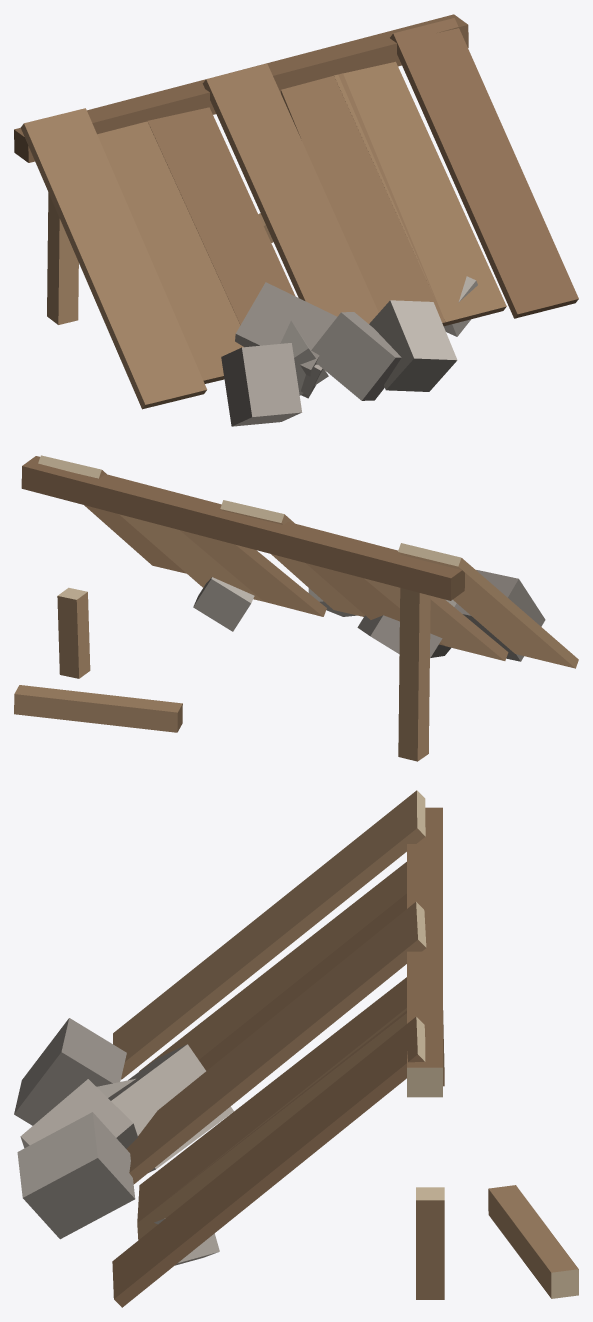
The model's file is porch_wreck.glb.
3 views of the same model, one above another, from view 1: azimuth 30°, elevation 25°; view 2: azimuth 150°, elevation 25°; view 3: azimuth 270°, elevation 25° (orthographic). The views are drawn at different scales.
Visible parts, largest first — view 1: porch_wreck; view 2: porch_wreck; view 3: porch_wreck.
Boxes of the visible parts, x1=… form: porch_wreck: x1=14, y1=14, x2=578, y2=426; porch_wreck: x1=14, y1=455, x2=578, y2=761; porch_wreck: x1=14, y1=790, x2=578, y2=1307.
Bounding box in the file's own units: 3.56 × 1.78 × 3.14.
